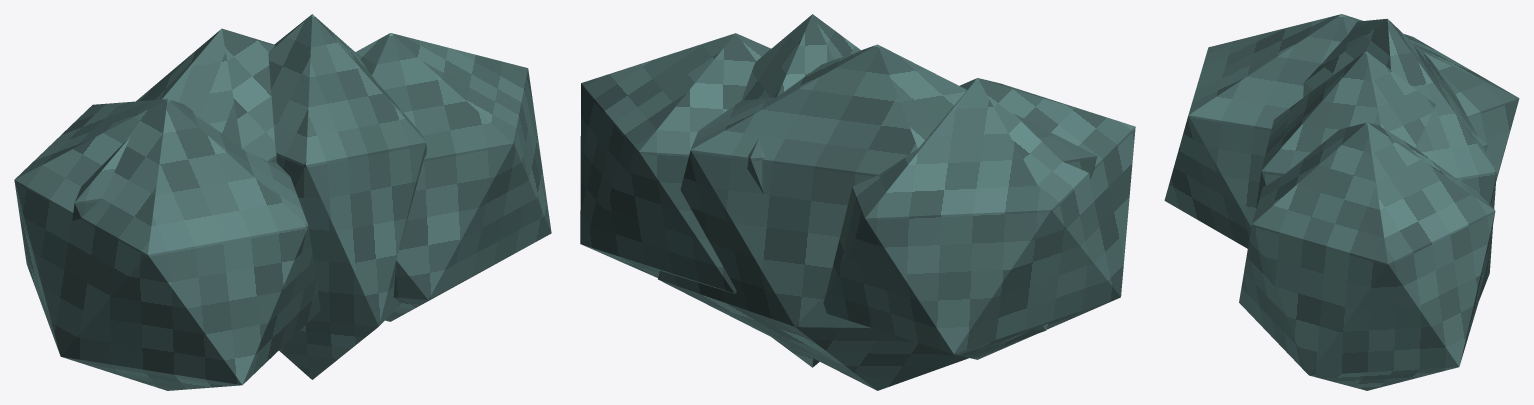
The model's file is ruin_04.glb.
3 renders of one model, left to right at view 1: azimuth 30°, elevation 25°; view 2: azimuth 150°, elevation 25°; view 3: azimuth 270°, elevation 25°, orthographic. The views are drawn at different scales.
Parts seen in each view (by area): view 1: WeatheredStone, WeatheredStone.002, WeatheredStone.003, WeatheredStone.001; view 2: WeatheredStone, WeatheredStone.001, WeatheredStone.003, WeatheredStone.002; view 3: WeatheredStone.003, WeatheredStone, WeatheredStone.002, WeatheredStone.001.
Part boxes in pixels (x1,y1,x2,y2): WeatheredStone: (14,99,320,390); WeatheredStone.002: (268,14,426,379); WeatheredStone.003: (355,33,551,321); WeatheredStone.001: (72,28,276,220); WeatheredStone: (823,78,1135,359); WeatheredStone.001: (658,44,1097,390); WeatheredStone.003: (580,33,770,293); WeatheredStone.002: (741,14,860,367); WeatheredStone.003: (1239,122,1495,390); WeatheredStone: (1164,14,1519,248); WeatheredStone.002: (1256,51,1487,208); WeatheredStone.001: (1303,18,1496,299).
Size of the model in its own units: 2.93 by 2 by 1.89.
1 material, 1 textured.
